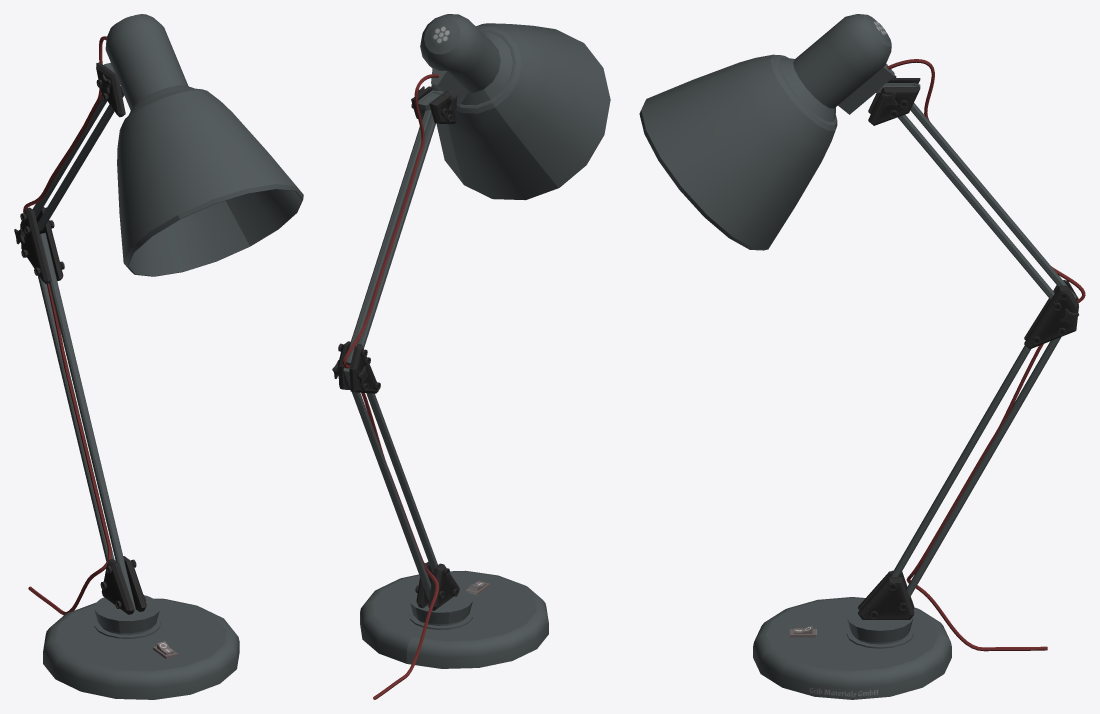
The model's file is desk.gltf.
3 renders of one model, left to right at view 1: azimuth 30°, elevation 25°; view 2: azimuth 150°, elevation 25°; view 3: azimuth 270°, elevation 25°, orthographic. The views are drawn at different scales.
Parts seen in each view (by area): view 1: desk_lamp_low; view 2: desk_lamp_low; view 3: desk_lamp_low.
Boxes of the visible parts, x1=… form: desk_lamp_low: x1=14, y1=14, x2=303, y2=699; desk_lamp_low: x1=332, y1=14, x2=610, y2=699; desk_lamp_low: x1=639, y1=14, x2=1085, y2=699.
Size of the model in its own units: 1.31 by 4.65 by 2.94.
1 material, 1 textured.
